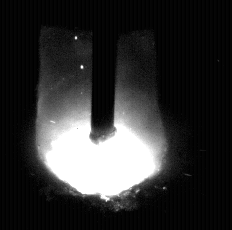arame: (92, 0, 116, 144)
poca: (36, 0, 168, 230)
